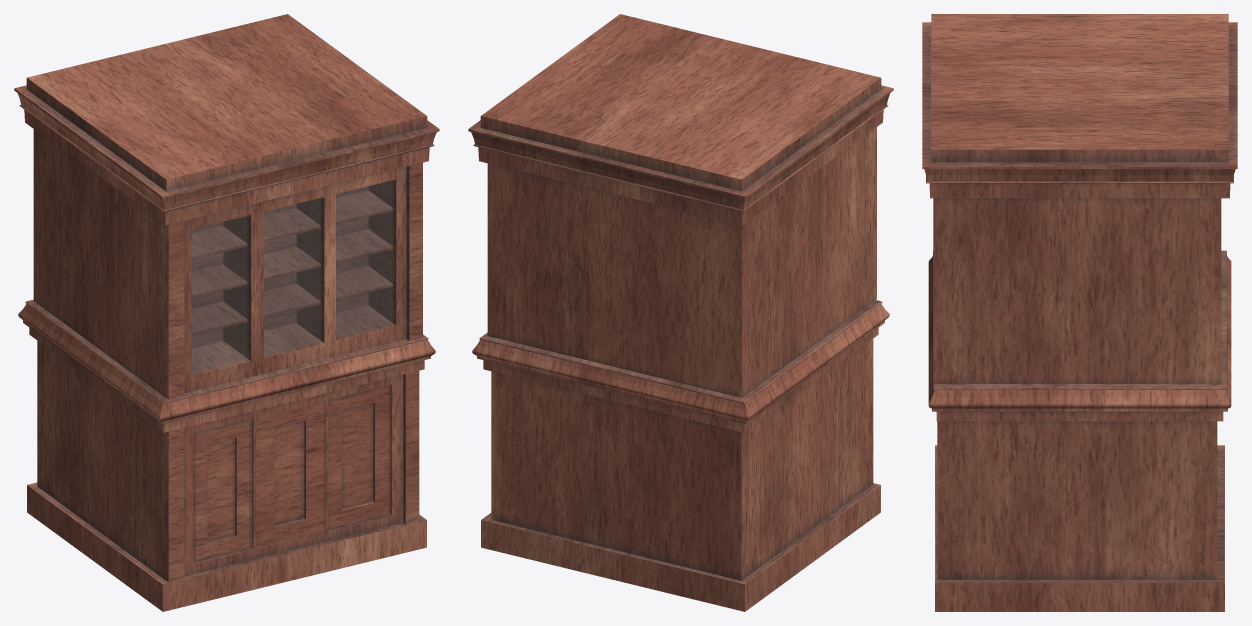
File: Book shelves.fbx
3 renders of one model, left to right at view 1: azimuth 30°, elevation 25°; view 2: azimuth 150°, elevation 25°; view 3: azimuth 270°, elevation 25°, orthographic. The views are drawn at different scales.
Visible parts, largest first — view 1: pCube19; view 2: pCube19; view 3: pCube19.
Boxes of the visible parts, x1,y1,x2,y2 form: pCube19: (14, 14, 439, 611); pCube19: (468, 14, 893, 611); pCube19: (922, 14, 1237, 611).
Bounding box in the file's own units: 9.69 × 14.46 × 8.96.
2 materials, 1 textured.
